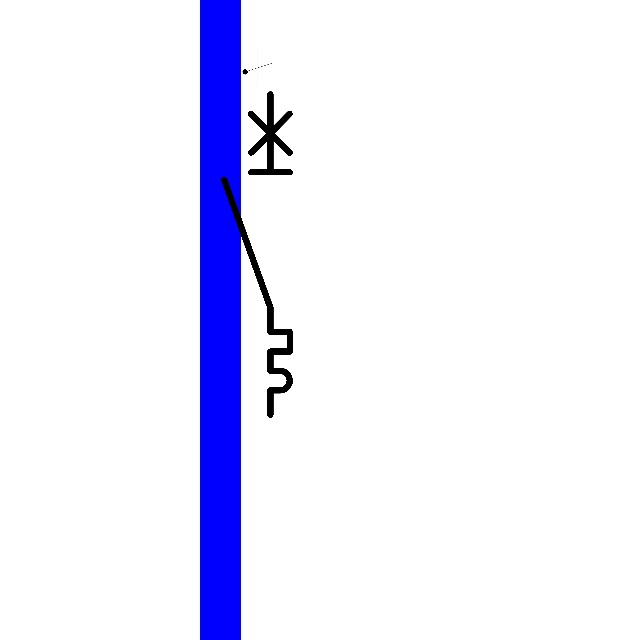interruptor_termomagnetico: (216, 86, 298, 423)
